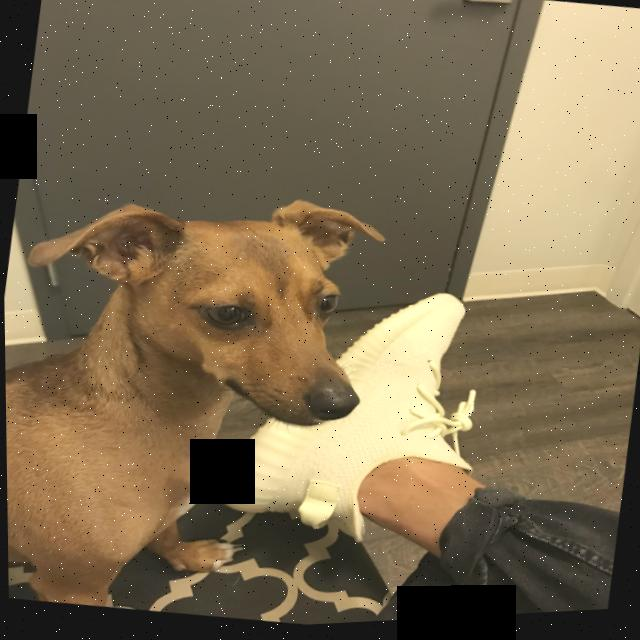shoe: (209, 249, 567, 581)
